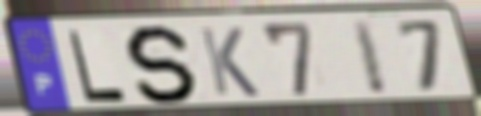7: (257, 21, 319, 100), (393, 17, 447, 94)
I: (347, 17, 391, 98)
K: (196, 25, 263, 99)
L: (65, 28, 129, 105)
S: (123, 23, 202, 106)
